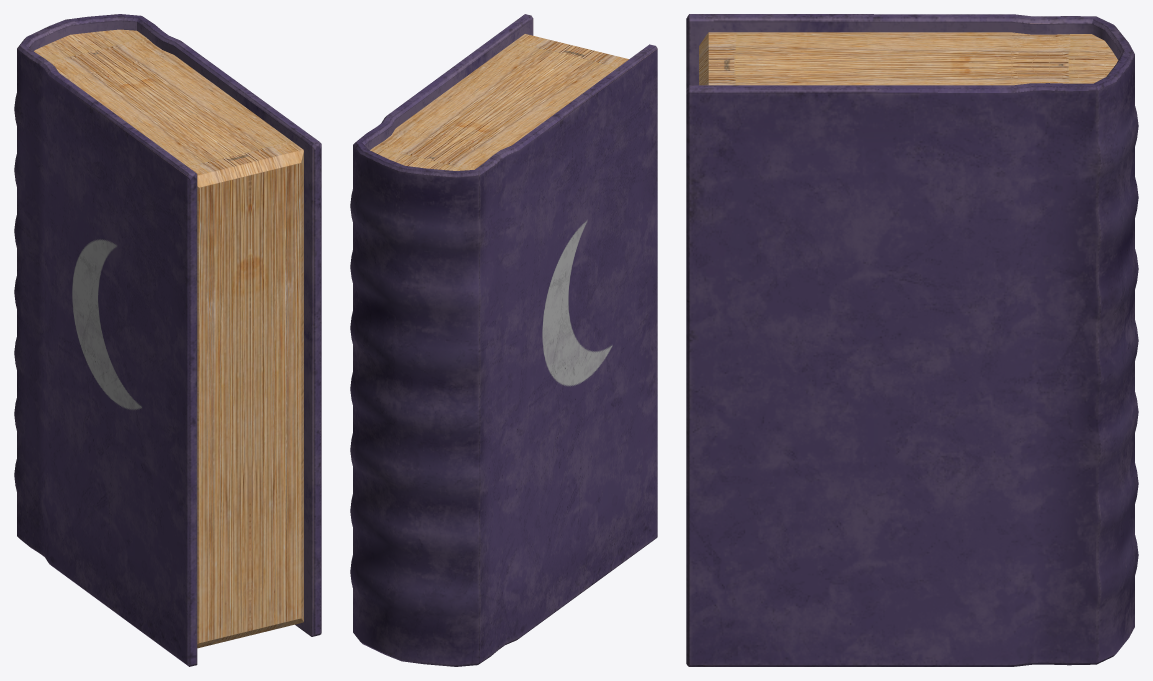
File: 3DArt_Props_Books_Model_Amanda_V4.fbx
The picture shows the model from 3 angles, left to right: view 1: azimuth 30°, elevation 25°; view 2: azimuth 150°, elevation 25°; view 3: azimuth 270°, elevation 25°; orthographic projection. The views are drawn at different scales.
Parts seen in each view (by area): view 1: Book_003; view 2: Book_003; view 3: Book_003.
Boxes of the visible parts, x1,y1,x2,y2 form: Book_003: (14,14,321,666); Book_003: (350,14,657,666); Book_003: (686,14,1138,666).
Size of the model in its own units: 6.72 by 23.53 by 16.68.
1 material, 1 textured.
